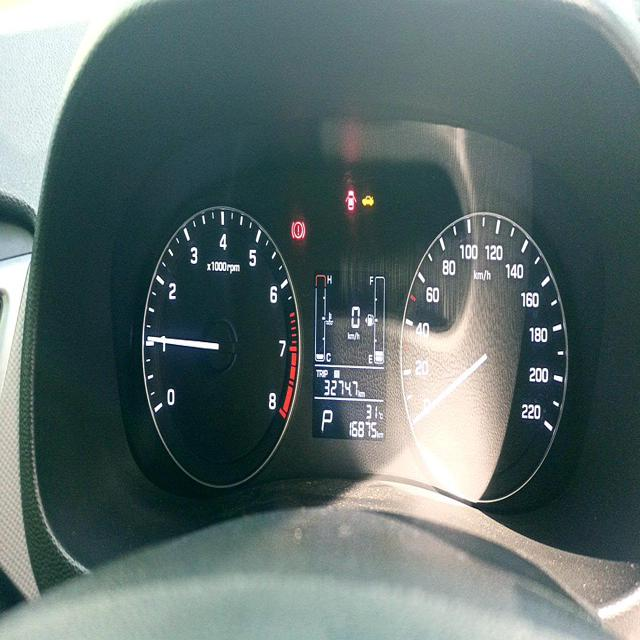odometer: (347, 417, 378, 438)
